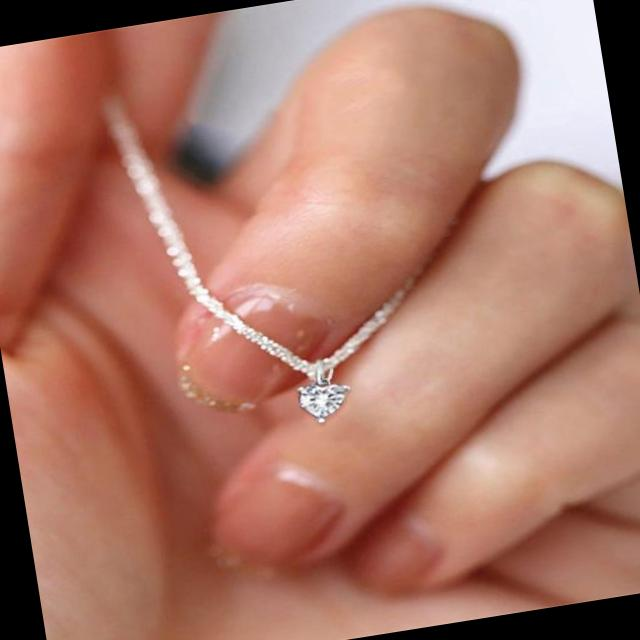Nail: (219, 438, 345, 563), (179, 307, 298, 404), (225, 288, 350, 362)
